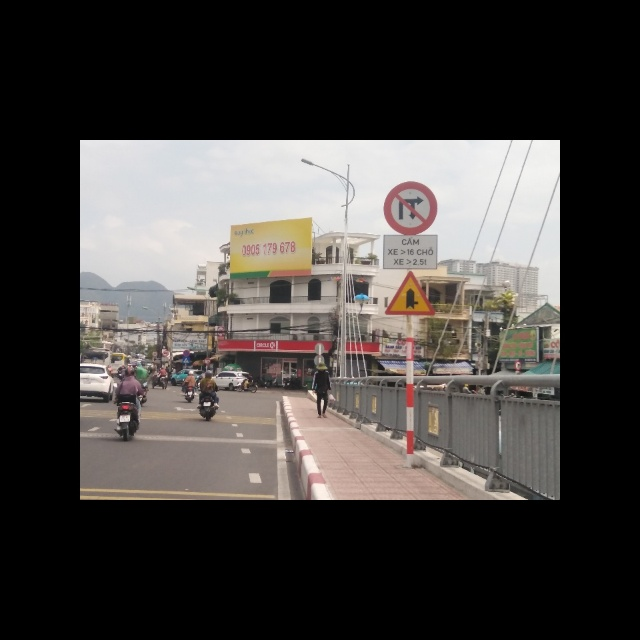Cấm quay đầu và rẽ phải: (384, 181, 437, 235)
Giao nhau với đường không ưu tiên: (384, 270, 434, 315)
